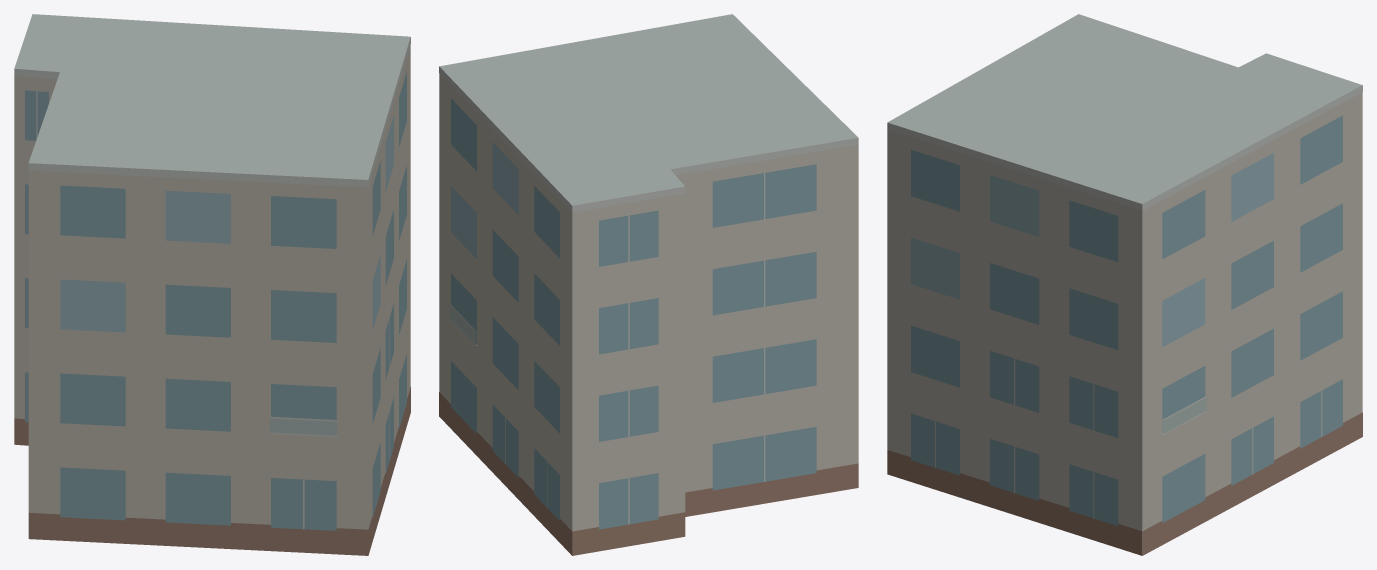
The model's file is survey-upis-32672720.glb.
3 views of the same model, side by side, from view 1: azimuth 30°, elevation 25°; view 2: azimuth 150°, elevation 25°; view 3: azimuth 270°, elevation 25° (orthographic). The views are drawn at different scales.
Parts seen in each view (by area): view 1: survey-upis-32672720.tmp; view 2: survey-upis-32672720.tmp; view 3: survey-upis-32672720.tmp.
Boxes of the visible parts, left/top/right/bottom form: survey-upis-32672720.tmp: left=14, top=14, right=410, bottom=555; survey-upis-32672720.tmp: left=439, top=14, right=858, bottom=555; survey-upis-32672720.tmp: left=887, top=14, right=1362, bottom=555.
Bounding box in the file's own units: 14.32 × 12.35 × 15.14.
